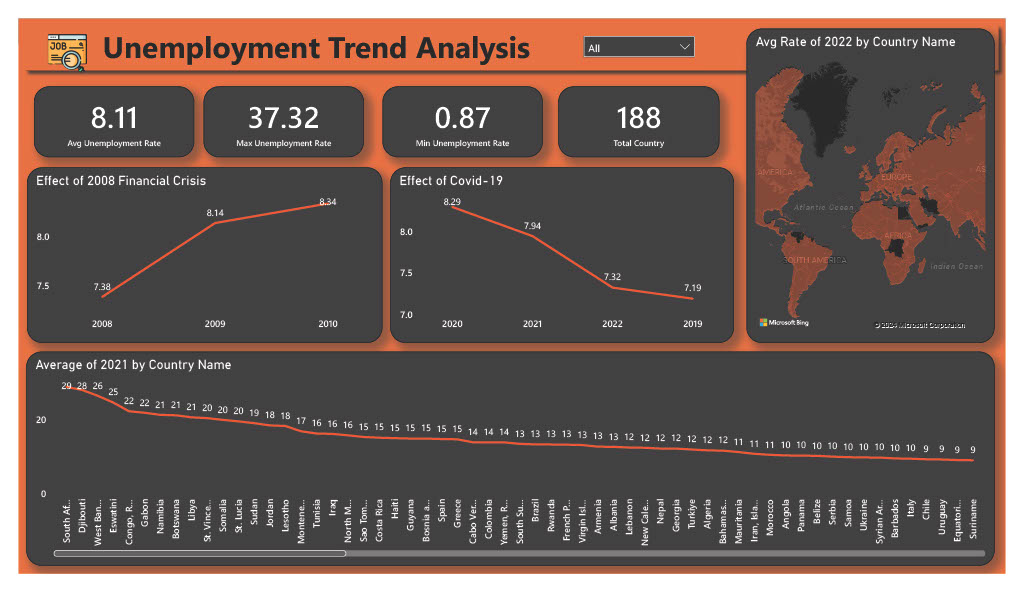

Layout of this report page (visuals, bound fields, positions):
{"tool":"powerbi","page":{"name":"Effect of Crisis","canvas":[1280,720],"ordinal":1},"visuals":[{"type":"card","title":"Average Unemployment Rate","fields":{"Values":["Avg(Data.Average World)"]},"box":[19.8,87.9,208.3,92.1],"z":0},{"type":"card","title":"Average Unemployment Rate","fields":{"Values":["Measure.Max Rate"]},"box":[239.5,87.9,208.3,92.1],"z":1000},{"type":"card","title":"Average Unemployment Rate","fields":{"Values":["Measure.min rate"]},"box":[472,87.9,208.3,92.1],"z":2000},{"type":"shape","title":"Unemployment Trend Analysis","box":[0,0,1279.8,76.5],"z":5000},{"type":"filledMap","title":"Avg Rate of 2022 by Country Name","fields":{"Category":["Data.Country Name"]},"box":[943.9,12.8,321.7,408.2],"z":6000},{"type":"card","title":"Average Unemployment Rate","fields":{"Values":["Count(Data.Country Name)"]},"box":[700.2,87.9,208.3,92.1],"z":7000},{"type":"image","box":[32.6,12.8,60.9,63.8],"z":8000},{"type":"slicer","fields":{"Values":["Data.Country Name"]},"box":[722.8,12.8,164.4,49.6],"z":9000},{"type":"lineChart","fields":{"Category":["Data.Country Name"],"Y":["Avg(Data.2021)"]},"box":[9.9,432.3,1255.7,277.8],"z":9001},{"type":"lineChart","title":"Effect of 2008 Financial Crisis","fields":{"Y":["Avg(2008 Crisis.Value)"],"Category":["2008 Crisis.Year"]},"box":[11.3,192.8,460.6,228.2],"z":9002},{"type":"lineChart","title":"Effect of Covid-19","fields":{"Category":["Covid 19.Year"],"Y":["Avg(Covid 19.Value)"]},"box":[481.9,192.8,446.5,228.2],"z":9003}]}

Visuals, with their boxes in screenshot pixels (x1, y1, x2, y2), scaled from the page's 1280x720 canvas onto the 1024x592 screenshot:
"Average Unemployment Rate" card: {"left": 16, "top": 72, "right": 182, "bottom": 148}
"Average Unemployment Rate" card: {"left": 192, "top": 72, "right": 358, "bottom": 148}
"Average Unemployment Rate" card: {"left": 378, "top": 72, "right": 544, "bottom": 148}
"Unemployment Trend Analysis" shape: {"left": 0, "top": 0, "right": 1023, "bottom": 63}
"Avg Rate of 2022 by Country Name" filledMap: {"left": 755, "top": 11, "right": 1012, "bottom": 346}
"Average Unemployment Rate" card: {"left": 560, "top": 72, "right": 727, "bottom": 148}
image: {"left": 26, "top": 11, "right": 75, "bottom": 63}
slicer - Data.Country Name: {"left": 578, "top": 11, "right": 710, "bottom": 51}
lineChart - Data.Country Name x Avg(Data.2021): {"left": 8, "top": 355, "right": 1012, "bottom": 584}
"Effect of 2008 Financial Crisis" lineChart: {"left": 9, "top": 159, "right": 378, "bottom": 346}
"Effect of Covid-19" lineChart: {"left": 386, "top": 159, "right": 743, "bottom": 346}
